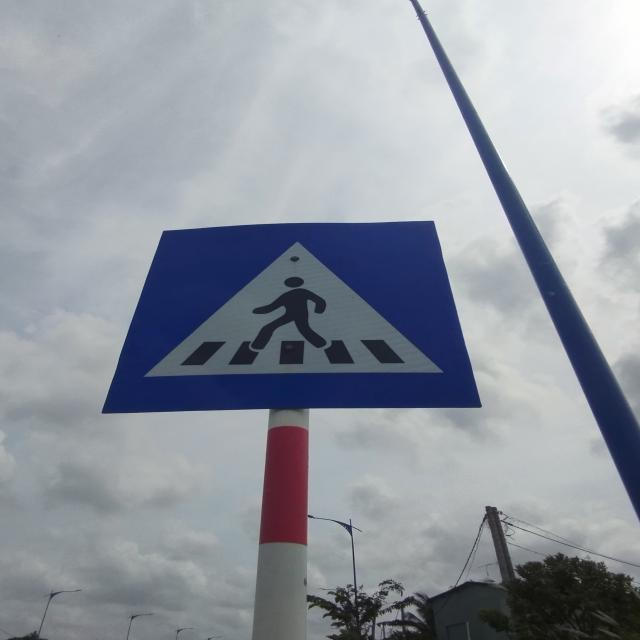Giao_Nhau_Duong_Uu_Tien: (102, 222, 483, 412)
